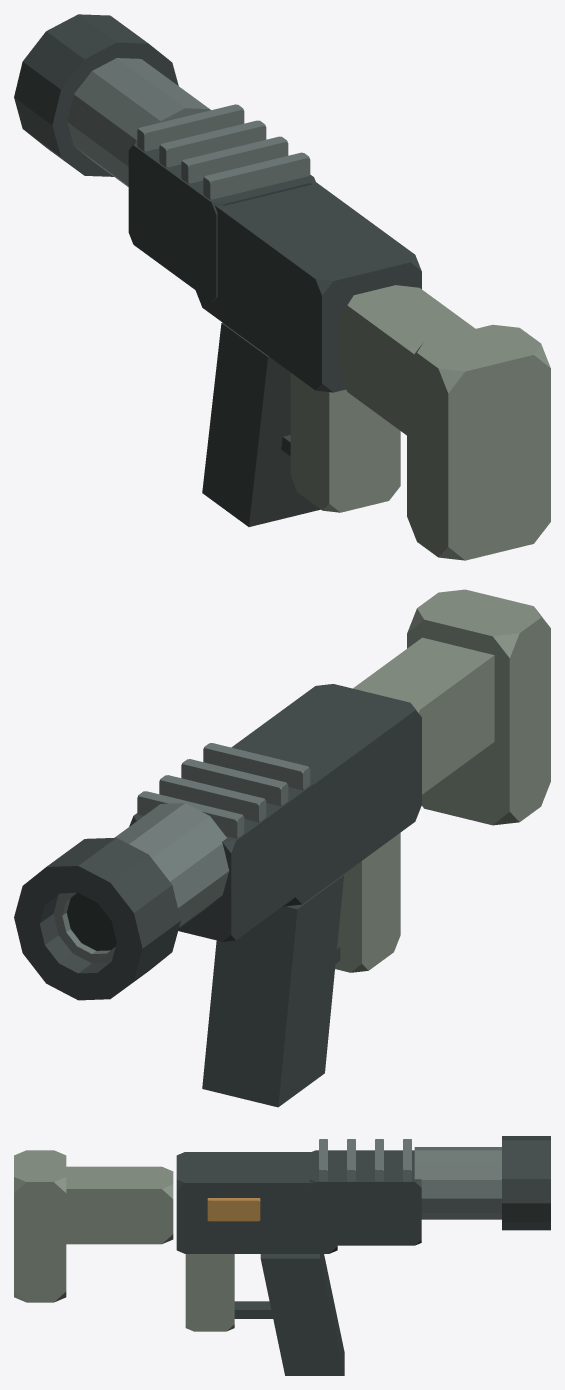
The model's file is weapon_smg.glb.
The picture shows the model from 3 angles, top to bottom: view 1: azimuth 30°, elevation 25°; view 2: azimuth 150°, elevation 25°; view 3: azimuth 270°, elevation 25°; orthographic projection. The views are drawn at different scales.
Parts seen in each view (by area): view 1: weapon_smg; view 2: weapon_smg; view 3: weapon_smg.
Boxes of the visible parts, x1,y1,x2,y2 form: weapon_smg: [14, 14, 550, 560]; weapon_smg: [14, 589, 550, 1107]; weapon_smg: [14, 1136, 550, 1375].
Bounding box in the file's own units: 0.135 × 0.3522 × 0.7666.
